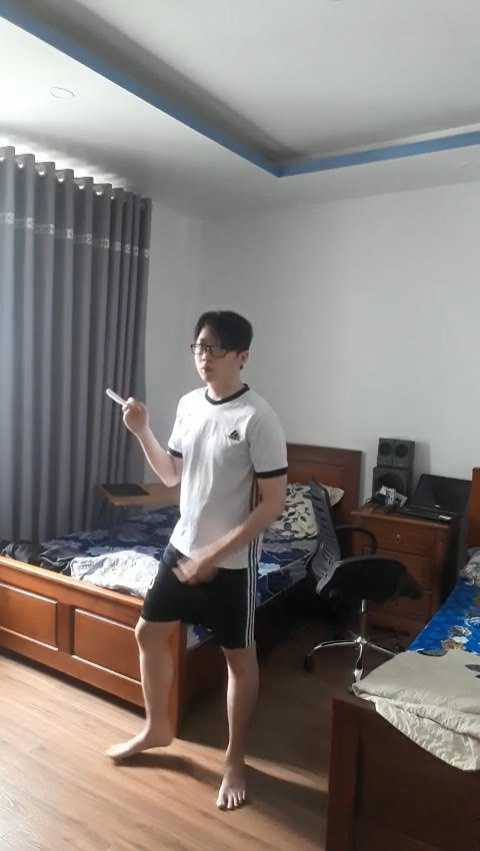cigarette: (106, 386, 129, 407)
person: (104, 302, 299, 814)
